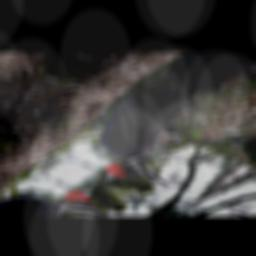Woodpecker: (48, 80, 256, 195)
